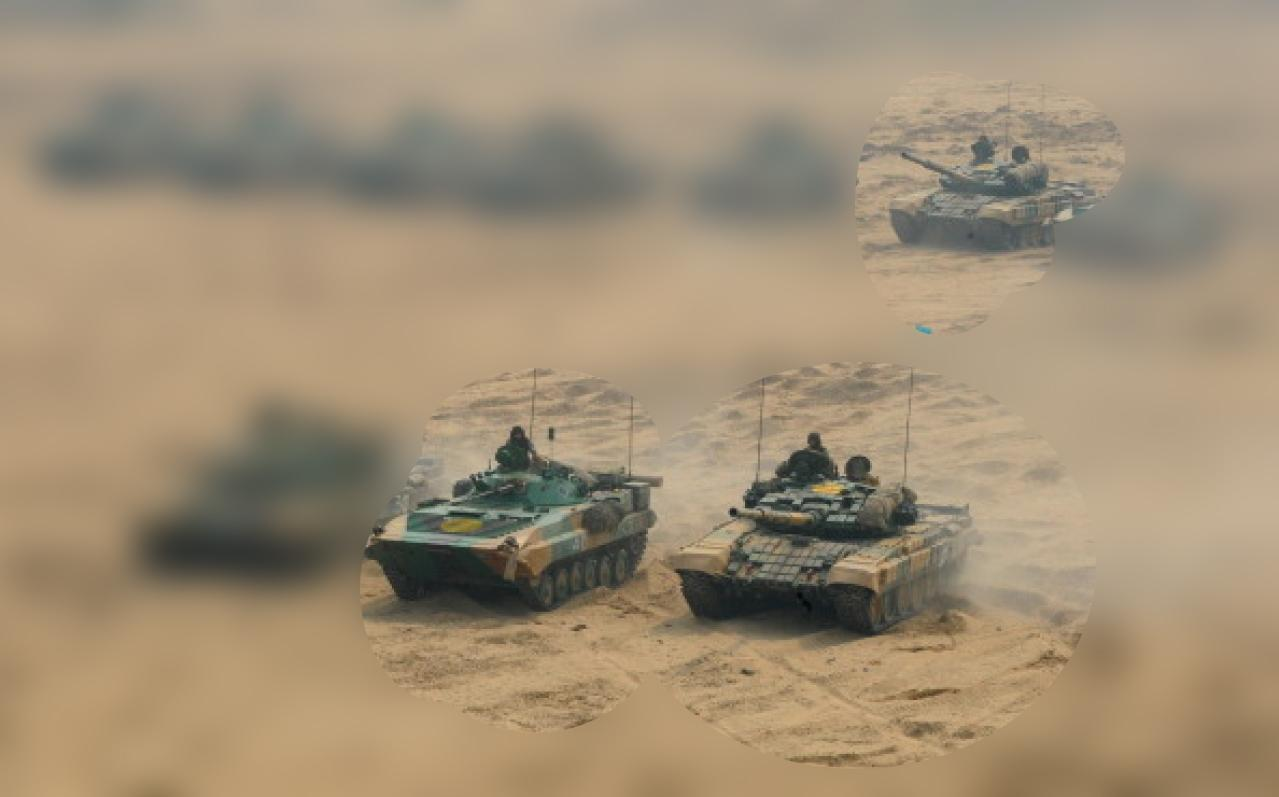armored_car: (364, 414, 662, 614)
tank: (667, 426, 978, 637), (884, 126, 1106, 254)
